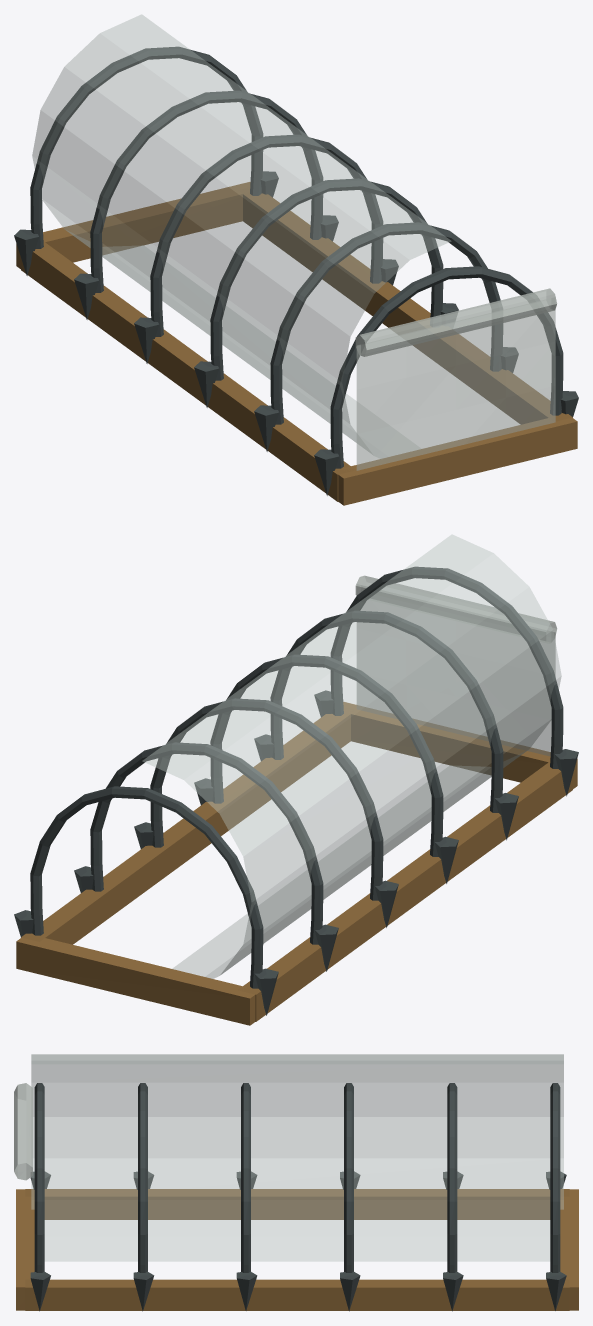
File: crop-netting.source.glb
3 renders of one model, top to bottom at view 1: azimuth 30°, elevation 25°; view 2: azimuth 150°, elevation 25°; view 3: azimuth 270°, elevation 25°, orthographic. The views are drawn at different scales.
Visible parts, largest first — view 1: crop-netting-faceted-net-canopy-mesh, crop-netting-six-hoop-frame-mesh (×6), crop-netting-front-net-panel-mesh, crop-netting-timber-curb-mesh (×2), crop-netting-timber-end-curb-mesh (×2), crop-netting-rolled-access-flap-mesh, crop-netting-ground-anchor-mesh (×6); view 2: crop-netting-faceted-net-canopy-mesh, crop-netting-six-hoop-frame-mesh (×6), crop-netting-timber-curb-mesh (×2), crop-netting-front-net-panel-mesh, crop-netting-timber-end-curb-mesh (×2), crop-netting-rolled-access-flap-mesh; view 3: crop-netting-faceted-net-canopy-mesh, crop-netting-timber-curb-mesh (×2), crop-netting-six-hoop-frame-mesh (×6), crop-netting-timber-end-curb-mesh (×2), crop-netting-ground-anchor-mesh (×6), crop-netting-rolled-access-flap-mesh.
Part boxes in pixels (x1,y1,x2,y2): crop-netting-faceted-net-canopy-mesh: [32, 14, 451, 458]; crop-netting-six-hoop-frame-mesh (×6): [30, 46, 563, 468]; crop-netting-front-net-panel-mesh: [356, 298, 555, 470]; crop-netting-timber-curb-mesh (×2): [21, 187, 572, 501]; crop-netting-timber-end-curb-mesh (×2): [16, 182, 577, 505]; crop-netting-rolled-access-flap-mesh: [355, 288, 557, 356]; crop-netting-ground-anchor-mesh (×6): [14, 229, 339, 495]; crop-netting-faceted-net-canopy-mesh: [142, 534, 561, 978]; crop-netting-six-hoop-frame-mesh (×6): [30, 566, 563, 988]; crop-netting-timber-curb-mesh (×2): [21, 707, 572, 1021]; crop-netting-front-net-panel-mesh: [357, 585, 555, 756]; crop-netting-timber-end-curb-mesh (×2): [16, 702, 577, 1025]; crop-netting-rolled-access-flap-mesh: [355, 575, 557, 643]; crop-netting-faceted-net-canopy-mesh: [31, 1054, 563, 1261]; crop-netting-timber-curb-mesh (×2): [25, 1189, 569, 1310]; crop-netting-six-hoop-frame-mesh (×6): [34, 1083, 560, 1272]; crop-netting-timber-end-curb-mesh (×2): [16, 1189, 578, 1310]; crop-netting-ground-anchor-mesh (×6): [30, 1271, 566, 1311]; crop-netting-rolled-access-flap-mesh: [14, 1083, 32, 1180].
Size of the model in its own units: 1.81 by 1.52 by 3.94.
